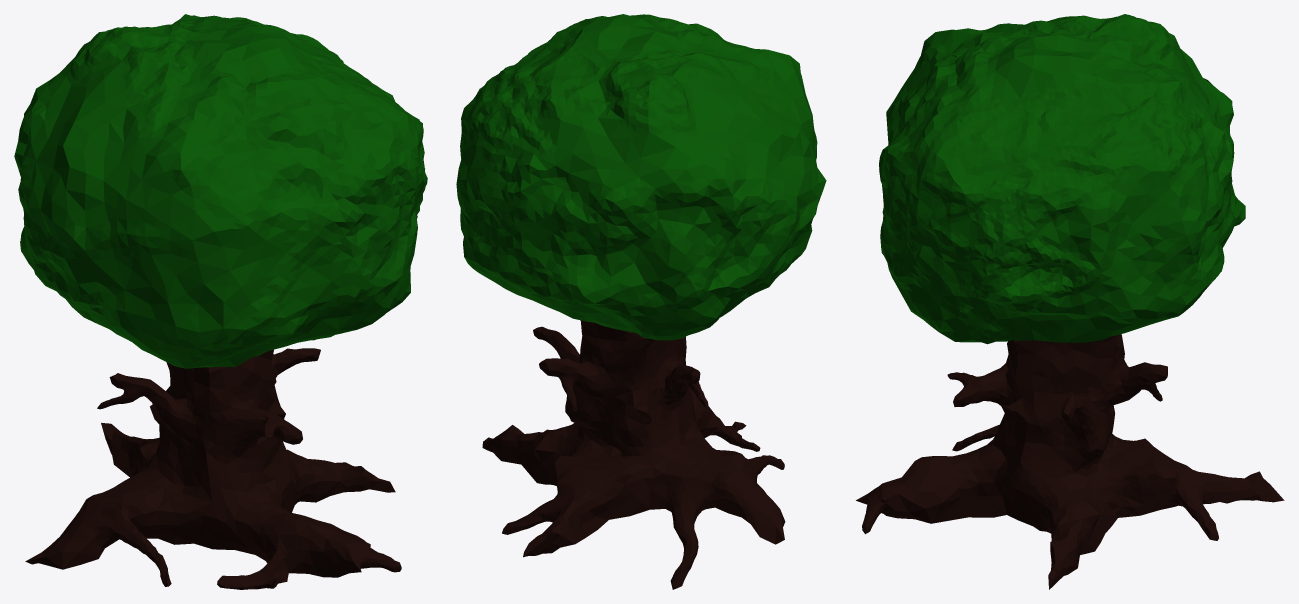
File: arbre.obj
The picture shows the model from 3 angles, left to right: view 1: azimuth 30°, elevation 25°; view 2: azimuth 150°, elevation 25°; view 3: azimuth 270°, elevation 25°; orthographic projection. The views are drawn at different scales.
Visible parts, largest first — view 1: feuillage_Cube.001, tronc_Cube; view 2: feuillage_Cube.001, tronc_Cube; view 3: feuillage_Cube.001, tronc_Cube.
Part boxes in pixels (<box>): feuillage_Cube.001: <box>14,14,427,368</box>; tronc_Cube: <box>25,348,401,589</box>; feuillage_Cube.001: <box>456,14,826,340</box>; tronc_Cube: <box>482,320,785,589</box>; feuillage_Cube.001: <box>879,14,1245,344</box>; tronc_Cube: <box>856,334,1284,589</box>.
Bounding box in the file's own units: 2.87 × 4.13 × 3.15.
